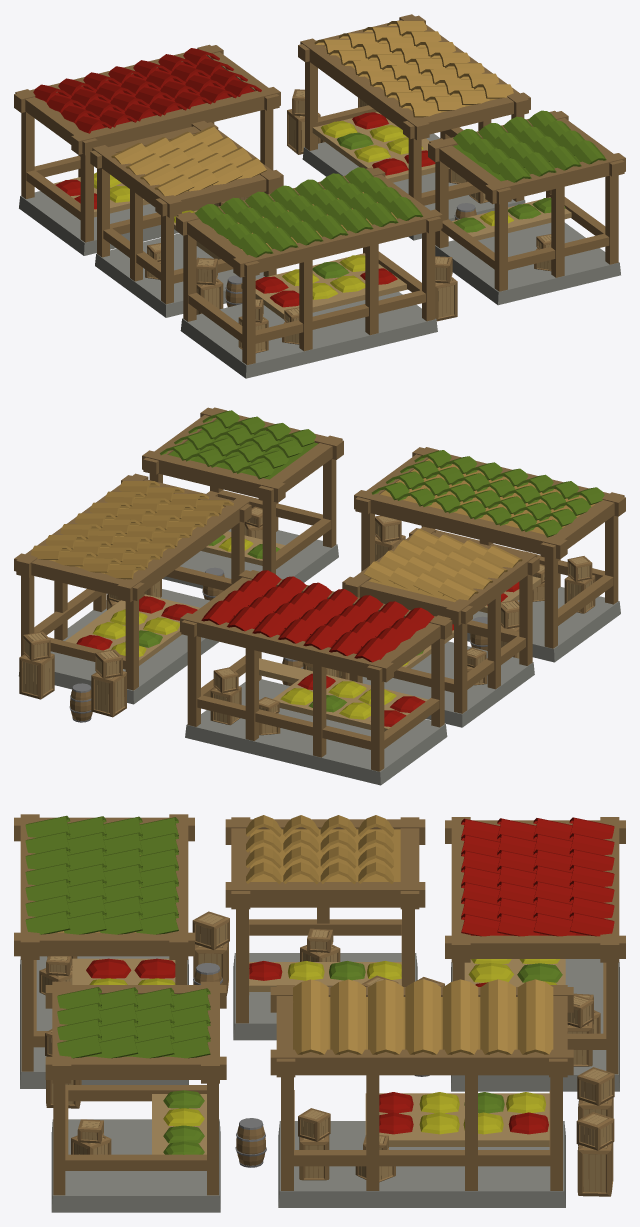
Rendered from Market.fbx.
The picture shows the model from 3 angles, top to bottom: view 1: azimuth 30°, elevation 25°; view 2: azimuth 150°, elevation 25°; view 3: azimuth 270°, elevation 25°; orthographic projection. The views are drawn at different scales.
Visible parts, largest first — view 1: 24, 12, 51, 59, 61, 62, 28, 34, 27, 6, 25, 13 (+44 smaller); view 2: 47, 59, 28, 60, 51, 0, 57, 6, 36, 48, 50, 62 (+45 smaller); view 3: 0, 59, 12, 6, 62, 60, 61, 11, 39, 57, 34, 15 (+44 smaller).
Boxes of the visible parts, left/top/right/bottom form: 24: left=180, top=291, right=437, bottom=378; 12: left=435, top=222, right=620, bottom=305; 51: left=14, top=45, right=280, bottom=154; 59: left=196, top=89, right=476, bottom=321; 61: left=55, top=121, right=565, bottom=307; 62: left=74, top=112, right=541, bottom=299; 28: left=176, top=167, right=442, bottom=277; 34: left=236, top=197, right=423, bottom=257; 27: left=188, top=251, right=425, bottom=343; 6: left=300, top=14, right=528, bottom=140; 25: left=183, top=232, right=435, bottom=365; 13: left=435, top=161, right=618, bottom=291; 47: left=185, top=679, right=447, bottom=785; 59: left=19, top=515, right=519, bottom=722; 28: left=354, top=447, right=625, bottom=559; 60: left=107, top=506, right=595, bottom=735; 51: left=180, top=570, right=452, bottom=682; 0: left=18, top=589, right=219, bottom=704; 57: left=201, top=600, right=391, bottom=662; 6: left=16, top=473, right=249, bottom=602; 36: left=362, top=641, right=534, bottom=727; 48: left=187, top=636, right=444, bottom=771; 50: left=197, top=655, right=439, bottom=749; 62: left=76, top=535, right=507, bottom=719; 0: left=278, top=1121, right=565, bottom=1207; 59: left=45, top=911, right=614, bottom=1196; 12: left=51, top=1119, right=220, bottom=1212; 6: left=270, top=987, right=573, bottom=1075; 62: left=89, top=958, right=560, bottom=1143; 60: left=39, top=928, right=600, bottom=1182; 61: left=86, top=958, right=562, bottom=1154; 11: left=293, top=1024, right=553, bottom=1054; 39: left=225, top=819, right=425, bottom=907; 57: left=569, top=817, right=614, bottom=936; 34: left=25, top=815, right=70, bottom=934; 15: left=65, top=1085, right=206, bottom=1170.
Bounding box in the file's own units: 193 × 65.71 × 199.
